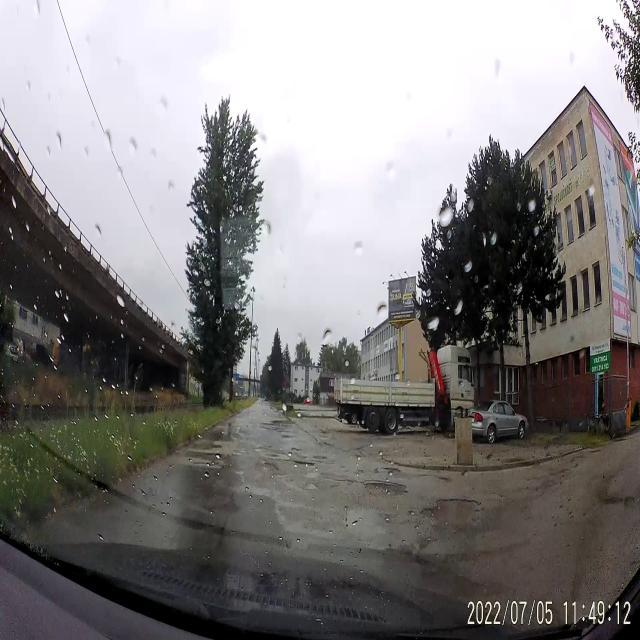Manhole: (312, 454, 328, 460), (266, 454, 280, 458)
Pothole: (420, 490, 485, 530), (363, 478, 408, 503), (292, 456, 314, 476), (418, 472, 450, 484), (381, 463, 402, 480), (324, 475, 354, 484), (263, 462, 279, 472), (304, 482, 320, 490), (290, 445, 302, 453), (281, 432, 292, 440)
